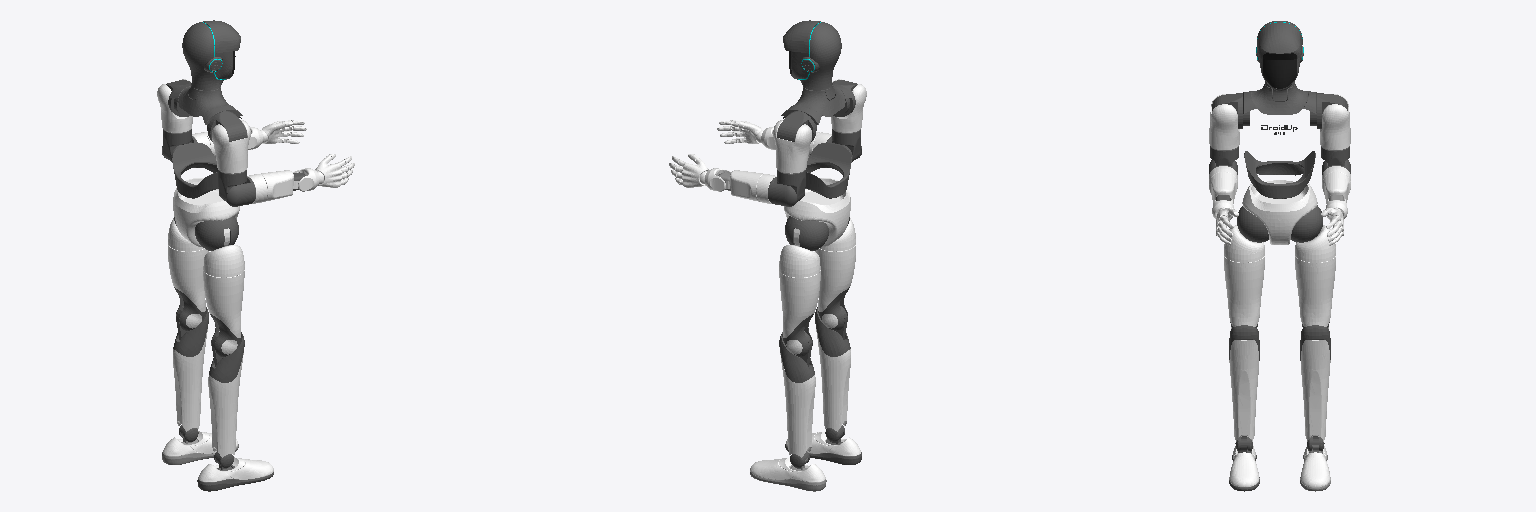
--- Facts derived from the render (not from the file) ---
3 views of the same robot in one strip: view 1: azimuth 30°, elevation 25°; view 2: azimuth 150°, elevation 25°; view 3: azimuth 270°, elevation 25° (orthographic).
Robot: x3 — 44 links, 43 joints (24 revolute, 19 fixed); root link pelvis_link; default pose: every joint at zero.
Visible links, largest first — view 1: torso_black_link, head_yaw_link, R_knee_pitch_link, L_knee_pitch_link, R_hip_yaw_link, pelvis_link, L_hip_yaw_link, R_shoulder_roll_link, R_wrist_pitch_link, R_hip_roll_link, R_ankle_roll_white_link, L_knee_pitch_black_link (+8 smaller); view 2: torso_black_link, head_yaw_link, L_knee_pitch_link, R_knee_pitch_link, L_hip_yaw_link, pelvis_link, R_hip_yaw_link, L_shoulder_roll_link, L_wrist_pitch_link, L_hip_roll_link, L_ankle_roll_white_link, R_knee_pitch_black_link (+8 smaller); view 3: torso_black_link, L_knee_pitch_link, R_knee_pitch_link, pelvis_link, R_hip_yaw_link, L_hip_yaw_link, head_yaw_link, L_shoulder_roll_link, R_shoulder_roll_link, face_link, L_hip_roll_link, R_hip_roll_link (+12 smaller).
Boxes of the visible links, left/top/right/bottom form: torso_black_link: left=169, top=83, right=242, bottom=198; head_yaw_link: left=182, top=20, right=240, bottom=90; R_knee_pitch_link: left=208, top=353, right=243, bottom=457; L_knee_pitch_link: left=173, top=329, right=207, bottom=431; R_hip_yaw_link: left=203, top=270, right=244, bottom=354; pelvis_link: left=173, top=178, right=239, bottom=246; L_hip_yaw_link: left=168, top=245, right=208, bottom=328; R_shoulder_roll_link: left=212, top=120, right=250, bottom=173; R_wrist_pitch_link: left=293, top=154, right=354, bottom=191; R_hip_roll_link: left=203, top=228, right=244, bottom=277; R_ankle_roll_white_link: left=198, top=457, right=273, bottom=481; L_knee_pitch_black_link: left=173, top=306, right=208, bottom=441; torso_black_link: left=781, top=83, right=854, bottom=198; head_yaw_link: left=783, top=20, right=841, bottom=90; L_knee_pitch_link: left=780, top=353, right=815, bottom=457; R_knee_pitch_link: left=816, top=329, right=850, bottom=431; L_hip_yaw_link: left=779, top=270, right=820, bottom=354; pelvis_link: left=784, top=178, right=850, bottom=246; R_hip_yaw_link: left=815, top=245, right=855, bottom=328; L_shoulder_roll_link: left=773, top=120, right=811, bottom=173; L_wrist_pitch_link: left=669, top=154, right=730, bottom=191; L_hip_roll_link: left=779, top=228, right=820, bottom=277; L_ankle_roll_white_link: left=750, top=457, right=825, bottom=481; R_knee_pitch_black_link: left=815, top=306, right=850, bottom=441; torso_black_link: left=1243, top=84, right=1316, bottom=198; L_knee_pitch_link: left=1301, top=340, right=1330, bottom=441; R_knee_pitch_link: left=1229, top=340, right=1258, bottom=441; pelvis_link: left=1242, top=180, right=1317, bottom=244; R_hip_yaw_link: left=1224, top=256, right=1264, bottom=328; L_hip_yaw_link: left=1295, top=256, right=1335, bottom=328; head_yaw_link: left=1256, top=21, right=1303, bottom=90; L_shoulder_roll_link: left=1320, top=94, right=1350, bottom=149; R_shoulder_roll_link: left=1209, top=94, right=1239, bottom=149; face_link: left=1263, top=53, right=1296, bottom=88; L_hip_roll_link: left=1295, top=225, right=1335, bottom=262; R_hip_roll_link: left=1224, top=225, right=1264, bottom=262.
Bounding box of the posed robot: 0.5902 × 0.4814 × 1.66 m (x, y, z).
41 mesh visuals loaded from 44 distinct referenced files (41 binary STL); not drawn: 3 (reference not matched to a file when rendering).

robot.urdf — x3:
<?xml version="1.0" encoding="utf-8"?>
<!-- This URDF was automatically created by SolidWorks to URDF Exporter! Originally created by Stephen Brawner ([email redacted]) 
     Commit Version: 1.6.0-4-g7f85cfe  Build Version: 1.6.7995.38578
     For more information, please see http://wiki.ros.org/sw_urdf_exporter -->
<robot name="x3">

  <mujoco>
    <compiler meshdir="./meshes" discardvisual="false" />
  </mujoco>

  <!-- <link name="world"></link>
  <joint name="pelvis_link" type="floating">
    <parent link="world" />
    <child link="pelvis_link" />
  </joint> -->

  <link name="pelvis_link">
    <inertial>
      <origin xyz="0 0.0002374 0.08138805" rpy="0 0 0" />
      <mass value="2.4" />
      <inertia ixx="0.01183793" ixy="-0.00000035" ixz="0.00000000" iyy="0.01469122" iyz="0.00000227" izz="0.01600167" />
    </inertial>
    <visual>
      <origin xyz="0 0 0" rpy="0 0 0" />
      <geometry>
        <mesh filename="meshes/pelvis_link.STL" />
      </geometry>
      <material name="">
        <color rgba="1 1 1 1" />
      </material>
    </visual>
    <!-- <collision>
      <origin xyz="0 0 0" rpy="0 0 0" />
      <geometry>
        <mesh filename="meshes/pelvis_link.STL" />
      </geometry>
    </collision> -->
  </link>
  <link name="L_hip_pitch_link">
    <inertial>
      <origin xyz="0 -0.00129733 0.00058752" rpy="0 0 0" />
      <mass value="0.35" />
      <inertia ixx="0.00077282" ixy="0.00000000" ixz="0.00000000" iyy="0.00090761" iyz="0.00000636" izz="0.00091467" />
    </inertial>
    <visual>
      <origin xyz="0 0 0" rpy="0 0 0" />
      <geometry>
        <mesh filename="meshes/L_hip_pitch_link.STL" />
      </geometry>
      <material name="">
        <color rgba="0.41961 0.41961 0.41961 1" />
      </material>
    </visual>
    <collision>
      <origin xyz="0 0 0" rpy="0 0 0" />
      <geometry>
        <mesh filename="meshes/L_hip_pitch_link.STL" />
      </geometry>
    </collision>
  </link>
  <joint name="L_hip_pitch" type="revolute">
    <origin xyz="0 0.071 0.0419" rpy="0 0 0" />
    <parent link="pelvis_link" />
    <child link="L_hip_pitch_link" />
    <axis xyz="0 -1 0" />
    <limit lower="-0.8727" upper="1.7453" effort="72" velocity="117.5" />
  </joint>
  <link name="L_hip_roll_link">
    <inertial>
      <origin xyz="0 0.04078379 -0.09187673" rpy="0 0 0" />
      <mass value="3.2" />
      <inertia ixx="0.01851882" ixy="0.00000000" ixz="-0.00000001" iyy="0.01634553" iyz="-0.00289271" izz="0.00663237" />
    </inertial>
    <visual>
      <origin xyz="0 0 0" rpy="0 0 0" />
      <geometry>
        <mesh filename="meshes/L_hip_roll_link.STL" />
      </geometry>
      <material name="">
        <color rgba="1 1 1 1" />
      </material>
    </visual>
    <collision>
      <origin xyz="0 0 0" rpy="0 0 0" />
      <geometry>
        <mesh filename="meshes/L_hip_roll_link.STL" />
      </geometry>
    </collision>
  </link>
  <joint name="L_hip_roll" type="revolute">
    <origin xyz="0 0 0" rpy="0 0 0" />
    <parent link="L_hip_pitch_link" />
    <child link="L_hip_roll_link" />
    <axis xyz="1 0 0" />
    <limit lower="-0.1309" upper="1.11" effort="36" velocity="235" />
  </joint>
  <link name="L_hip_yaw_link">
    <inertial>
      <origin xyz="0.00421444 0.00000785 -0.19916050" rpy="0 0 0" />
      <mass value="1.7" />
      <inertia ixx="0.01070579" ixy="0.00000152" ixz="-0.00075783" iyy="0.01061119" iyz="0.00000095" izz="0.00385510" />
    </inertial>
    <visual>
      <origin xyz="0 0 0" rpy="0 0 0" />
      <geometry>
        <mesh filename="meshes/L_hip_yaw_link.STL" />
      </geometry>
      <material name="">
        <color rgba="1 1 1 1" />
      </material>
    </visual>
    <collision>
      <origin xyz="0 0 0" rpy="0 0 0" />
      <geometry>
        <mesh filename="meshes/L_hip_yaw_link.STL" />
      </geometry>
    </collision>
  </link>
  <joint name="L_hip_yaw" type="revolute">
    <origin xyz="0 0.049 -0.043" rpy="0 0 0" />
    <parent link="L_hip_roll_link" />
    <child link="L_hip_yaw_link" />
    <axis xyz="0 0 1" />
    <limit lower="-0.7854" upper="0.7854" effort="24" velocity="37" />
  </joint>
  <link name="L_hip_yaw_black_link">
    <inertial>
      <origin xyz="0.010882 8.8917E-06 -0.34221" rpy="0 0 0" />
      <mass value="0.01" />
      <inertia ixx="0.00049307" ixy="1.8407E-08" ixz="0.00012312" iyy="0.00053872" iyz="-8.6888E-08" izz="0.00032966" />
    </inertial>
    <visual>
      <origin xyz="0 0 0" rpy="0 0 0" />
      <geometry>
        <mesh filename="meshes/L_hip_yaw_black_link.STL" />
      </geometry>
      <material name="">
        <color rgba="0.41176 0.41176 0.41176 1" />
      </material>
    </visual>
    <!-- <collision>
      <origin xyz="0 0 0" rpy="0 0 0" />
      <geometry>
        <mesh filename="meshes/L_hip_yaw_black_link.STL" />
      </geometry>
    </collision> -->
  </link>
  <joint name="L_hip_yaw_black" type="fixed">
    <origin xyz="0 0 0" rpy="0 0 0" />
    <parent link="L_hip_yaw_link" />
    <child link="L_hip_yaw_black_link" />
    <axis xyz="0 0 0" />
  </joint>
  <link name="L_knee_pitch_black_link">
    <inertial>
      <origin xyz="0.0036108 -2.1226E-06 -0.1102" rpy="0 0 0" />
      <mass value="0.01" />
      <inertia ixx="0.0145" ixy="1.7116E-08" ixz="-0.00044634" iyy="0.014482" iyz="8.0516E-08" izz="0.00098127" />
    </inertial>
    <visual>
      <origin xyz="0 0 0" rpy="0 0 0" />
      <geometry>
        <mesh filename="meshes/L_knee_pitch_black_link.STL" />
      </geometry>
      <material name="">
        <color rgba="0.41176 0.41176 0.41176 1" />
      </material>
    </visual>
    <!-- <collision>
      <origin xyz="0 0 0" rpy="0 0 0" />
      <geometry>
        <mesh filename="meshes/L_knee_pitch_black_link.STL" />
      </geometry>
    </collision> -->
  </link>
  <!-- <joint name="L_knee_pitch_black" type="fixed">
    <origin xyz="0 0 -0.357" rpy="0 0 0" />
    <parent link="L_hip_yaw_black_link" />
    <child link="L_knee_pitch_black_link" />
    <axis xyz="0 0 0" />
  </joint> -->
  <joint name="L_knee_pitch_black" type="fixed">
    <origin xyz="0 0 0" rpy="0 0 0" />
    <parent link="L_knee_pitch_link" />
    <child link="L_knee_pitch_black_link" />
    <axis xyz="0 0 0" />
  </joint>
  <link name="L_knee_pitch_link">
    <inertial>
      <origin xyz="0.00459772 0 -0.22342401" rpy="0 0 0" />
      <mass value="1.2" />
      <inertia ixx="0.01015001" ixy="-0.00000002" ixz="0.00082886" iyy="0.01039687" iyz="0.00000003" izz="0.00150910" />
    </inertial>
    <visual>
      <origin xyz="0 0 0" rpy="0 0 0" />
      <geometry>
        <mesh filename="meshes/L_knee_pitch_link.STL" />
      </geometry>
      <material name="">
        <color rgba="1 1 1 1" />
      </material>
    </visual>
    <collision>
      <origin xyz="0 0 0" rpy="0 0 0" />
      <geometry>
        <mesh filename="meshes/L_knee_pitch_link.STL" />
      </geometry>
    </collision>
  </link>
  <!-- <joint name="L_knee_pitch" type="revolute">
    <origin xyz="0 0 0" rpy="0 0 0" />
    <parent link="L_knee_pitch_black_link" />
    <child link="L_knee_pitch_link" />
    <axis xyz="0 -1 0" />
    <limit lower="-2.3562" upper="0" effort="93.6" velocity="90" />
  </joint> -->
  <joint name="L_knee_pitch" type="revolute">
    <origin xyz="0 0 -0.357" rpy="0 0 0" />
    <parent link="L_hip_yaw_black_link" />
    <child link="L_knee_pitch_link" />
    <axis xyz="0 -1 0" />
    <limit lower="-2.3562" upper="0" effort="93.6" velocity="90" />
  </joint>
  <link name="L_ankle_pitch_link">
    <inertial>
      <origin xyz="0 0 -0.03720405" rpy="0 0 0" />
      <mass value="0.2" />
      <inertia ixx="0.00020542" ixy="0.0000000" ixz="0.00000000" iyy="0.00022529" iyz="0.00000000" izz="0.00007465" />
    </inertial>
    <visual>
      <origin xyz="0 0 0" rpy="0 0 0" />
      <geometry>
        <mesh filename="meshes/L_ankle_pitch_link.STL" />
      </geometry>
      <material name="">
        <color rgba="0.62745 0.62745 0.62745 1" />
      </material>
    </visual>
    <collision>
      <origin xyz="0 0 0" rpy="0 0 0" />
      <geometry>
        <mesh filename="meshes/L_ankle_pitch_link.STL" />
      </geometry>
    </collision>
  </link>
  <joint name="L_ankle_pitch" type="revolute">
    <origin xyz="0 0 -0.43" rpy="0 0 0" />
    <parent link="L_knee_pitch_link" />
    <child link="L_ankle_pitch_link" />
    <axis xyz="0 -1 0" />
    <limit lower="-1.309" upper="1.309" effort="64.8" velocity="130" />
  </joint>
  <link name="L_ankle_roll_link">
    <inertial>
      <origin xyz="0.04505385 0.00001354 -0.02342946" rpy="0 0 0" />
      <mass value="0.6" />
      <inertia ixx="0.00041777" ixy="-0.00000006" ixz="-0.00009663" iyy="0.00376485" iyz="0.00000000" izz="0.00406581" />
    </inertial>
    <visual>
      <origin xyz="0 0 0" rpy="0 0 0" />
      <geometry>
        <mesh filename="meshes/L_ankle_roll_link.STL" />
      </geometry>
      <material name="">
        <color rgba="0.62745 0.62745 0.62745 1" />
      </material>
    </visual>
    <!-- <collision>
      <origin xyz="0 0 0" rpy="0 0 0" />
      <geometry>
        <mesh filename="meshes/L_ankle_roll_link.STL" />
      </geometry>
    </collision> -->
<!--    <collision>-->
<!--      <origin xyz="-0.066 0.03 -0.034" rpy="0 0 0"/>-->
<!--      <geometry>-->
<!--        <sphere radius="0.005"/>-->
<!--      </geometry>-->
<!--    </collision>-->
<!--    <collision>-->
<!--      <origin xyz="-0.066 -0.03 -0.034" rpy="0 0 0"/>-->
<!--      <geometry>-->
<!--        <sphere radius="0.005"/>-->
<!--      </geometry>-->
<!--    </collision>-->
<!--    <collision>-->
<!--      <origin xyz="0.16 0.035 -0.034" rpy="0 0 0"/>-->
<!--      <geometry>-->
<!--        <sphere radius="0.005"/>-->
<!--      </geometry>-->
<!--    </collision>-->
<!--    <collision>-->
<!--      <origin xyz="0.16 -0.035 -0.034" rpy="0 0 0"/>-->
<!--      <geometry>-->
<!--        <sphere radius="0.005"/>-->
<!--      </geometry>-->
<!--    </collision>-->
<!--    <collision>-->
<!--      <origin xyz="0.042 0.0 -0.0335" rpy="0 0 0"/>-->
<!--      <geometry>-->
<!--        <box size="0.2 0.05 0.01"/>-->
<!--      </geometry>-->
<!--    </collision>-->
    <collision> <origin xyz="0.04 0.0 0.00" rpy="0 0 0"/> <geometry> <box size="0.20 0.06 0.10"/> </geometry> </collision>
    <collision> <origin xyz="-0.09 -0.0   -0.0340" rpy="0 0 0"/> <geometry> <sphere radius="0.005"/> </geometry> </collision>
    <collision> <origin xyz=" 0.18 -0.0   -0.0340" rpy="0 0 0"/> <geometry> <sphere radius="0.005"/> </geometry> </collision>
    <collision> <origin xyz=" 0.12 -0.046 -0.0340" rpy="0 0 0"/> <geometry> <sphere radius="0.005"/> </geometry> </collision>
    <collision> <origin xyz=" 0.12  0.046 -0.0340" rpy="0 0 0"/> <geometry> <sphere radius="0.005"/> </geometry> </collision>
    <collision> <origin xyz="-0.03  0.033 -0.0340" rpy="0 0 0"/> <geometry> <sphere radius="0.005"/> </geometry> </collision>
    <collision> <origin xyz="-0.03 -0.033 -0.0340" rpy="0 0 0"/> <geometry> <sphere radius="0.005"/> </geometry> </collision>
  </link>
  <joint name="L_ankle_roll" type="revolute">
    <origin xyz="0 0 -0.058" rpy="0 0 0" />
    <parent link="L_ankle_pitch_link" />
    <child link="L_ankle_roll_link" />
    <axis xyz="1 0 0" />
    <limit lower="-0.5236" upper="0.5236" effort="7.7" velocity="20" />
  </joint>
  <link name="L_ankle_roll_white_link">
    <inertial>
      <origin xyz="0.052694 -9.4965E-08 0.0076216" rpy="0 0 0" />
      <mass value="0.01" />
      <inertia ixx="0.00038883" ixy="-2.5213E-09" ixz="0.00022024" iyy="0.0030036" iyz="1.5905E-09" izz="0.0031991" />
    </inertial>
    <visual>
      <origin xyz="0 0 0" rpy="0 0 0" />
      <geometry>
        <mesh filename="meshes/L_ankle_roll_white_link.STL" />
      </geometry>
      <material name="">
        <color rgba="1 1 1 1" />
      </material>
    </visual>
    <!-- <collision>
      <origin xyz="0 0 0" rpy="0 0 0" />
      <geometry>
        <mesh filename="meshes/L_ankle_roll_white_link.STL" />
      </geometry>
    </collision> -->
  </link>
  <joint name="L_ankle_roll_white" type="fixed">
    <origin xyz="0 0 0" rpy="0 0 0" />
    <parent link="L_ankle_roll_link" />
    <child link="L_ankle_roll_white_link" />
    <axis xyz="0 0 0" />
  </joint>
  <link name="R_hip_pitch_link">
    <inertial>
      <origin xyz="0 -0.00129733 0.00058752" rpy="0 0 0" />
      <mass value="0.35" />
      <inertia ixx="0.00077282" ixy="-0.00000000" ixz="0.00000000" iyy="0.00090761" iyz="-0.00000636" izz="0.00091467" />
    </inertial>
    <visual>
      <origin xyz="0 0 0" rpy="0 0 0" />
      <geometry>
        <mesh filename="meshes/R_hip_pitch_link.STL" />
      </geometry>
      <material name="">
        <color rgba="0.41961 0.41961 0.41961 1" />
      </material>
    </visual>
    <collision>
      <origin xyz="0 0 0" rpy="0 0 0" />
      <geometry>
        <mesh filename="meshes/R_hip_pitch_link.STL" />
      </geometry>
    </collision>
  </link>
  <joint name="R_hip_pitch" type="revolute">
    <origin xyz="0 -0.071 0.0419" rpy="0 0 0" />
    <parent link="pelvis_link" />
    <child link="R_hip_pitch_link" />
    <axis xyz="0 -1 0" />
    <limit lower="-0.8727" upper="1.7453" effort="72" velocity="117.5" />
  </joint>
  <link name="R_hip_roll_link">
    <inertial>
      <origin xyz="0 -0.04078345 -0.09187642" rpy="0 0 0" />
      <mass value="3.2" />
      <inertia ixx="0.01851882" ixy="-0.00000000" ixz="0.00000001" iyy="0.01634553" iyz="0.00289271" izz="0.00663237" />
    </inertial>
    <visual>
      <origin xyz="0 0 0" rpy="0 0 0" />
      <geometry>
        <mesh filename="meshes/R_hip_roll_link.STL" />
      </geometry>
      <material name="">
        <color rgba="1 1 1 1" />
      </material>
    </visual>
    <collision>
      <origin xyz="0 0 0" rpy="0 0 0" />
      <geometry>
        <mesh filename="meshes/R_hip_roll_link.STL" />
      </geometry>
    </collision>
  </link>
  <joint name="R_hip_roll" type="revolute">
    <origin xyz="0 0 0" rpy="0 0 0" />
    <parent link="R_hip_pitch_link" />
    <child link="R_hip_roll_link" />
    <axis xyz="-1 0 0" />
    <limit lower="-0.1309" upper="1.11" effort="36" velocity="235" />
  </joint>
  <link name="R_hip_yaw_link">
    <inertial>
      <origin xyz="0.00421444 0.00000785 -0.19916050" rpy="0 0 0" />
      <mass value="1.7" />
      <inertia ixx="0.01070579" ixy="-0.00000152" ixz="-0.00075783" iyy="0.01061119" iyz="-0.00000095" izz="0.00385510" />
    </inertial>
    <visual>
      <origin xyz="0 0 0" rpy="0 0 0" />
      <geometry>
        <mesh filename="meshes/R_hip_yaw_link.STL" />
      </geometry>
      <material name="">
        <color rgba="1 1 1 1" />
      </material>
    </visual>
    <collision>
      <origin xyz="0 0 0" rpy="0 0 0" />
      <geometry>
        <mesh filename="meshes/R_hip_yaw_link.STL" />
      </geometry>
    </collision>
  </link>
  <joint name="R_hip_yaw" type="revolute">
    <origin xyz="0 -0.049 -0.043" rpy="0 0 0" />
    <parent link="R_hip_roll_link" />
    <child link="R_hip_yaw_link" />
    <axis xyz="0 0 -1" />
    <limit lower="-0.7854" upper="0.7854" effort="24" velocity="37" />
  </joint>
  <link name="R_hip_yaw_black_link">
    <inertial>
      <origin xyz="0.010883 4.3825E-07 -0.34223" rpy="0 0 0" />
      <mass value="0.05" />
      <inertia ixx="0.00049284" ixy="-1.0446E-08" ixz="0.0001231" iyy="0.00053857" iyz="-2.0743E-08" izz="0.0003296" />
    </inertial>
    <visual>
      <origin xyz="0 0 0" rpy="0 0 0" />
      <geometry>
        <mesh filename="meshes/R_hip_yaw_black_link.STL" />
      </geometry>
      <material name="">
        <color rgba="0.41176 0.41176 0.41176 1" />
      </material>
    </visual>
    <!-- <collision>
      <origin xyz="0 0 0" rpy="0 0 0" />
      <geometry>
        <mesh filename="meshes/R_hip_yaw_black_link.STL" />
      </geometry>
    </collision> -->
  </link>
  <joint name="R_hip_yaw_black" type="fixed">
    <origin xyz="0 0 0" rpy="0 0 0" />
    <parent link="R_hip_yaw_link" />
    <child link="R_hip_yaw_black_link" />
    <axis xyz="0 0 0" />
  </joint>
  <link name="R_knee_pitch_black_link">
    <inertial>
      <origin xyz="0.0036099 -1.2526E-06 -0.1102" rpy="0 0 0" />
      <mass value="0.05" />
      <inertia ixx="0.014499" ixy="-5.0793E-08" ixz="-0.00044615" iyy="0.014481" iyz="-1.122E-07" izz="0.00098043" />
    </inertial>
    <visual>
      <origin xyz="0 0 0" rpy="0 0 0" />
      <geometry>
        <mesh filename="meshes/R_knee_pitch_black_link.STL" />
      </geometry>
      <material name="">
        <color rgba="0.41176 0.41176 0.41176 1" />
      </material>
    </visual>
    <!-- <collision>
      <origin xyz="0 0 0" rpy="0 0 0" />
      <geometry>
        <mesh filename="meshes/R_knee_pitch_black_link.STL" />
      </geometry>
    </collision> -->
  </link>
  <!-- <joint name="R_knee_pitch_black" type="fixed">
    <origin xyz="0 0 -0.357" rpy="0 0 0" />
    <parent link="R_hip_yaw_black_link" />
    <child link="R_knee_pitch_black_link" />
    <axis xyz="0 0 0" />
  </joint> -->
  <joint name="R_knee_pitch_black" type="fixed">
    <origin xyz="0 0 0" rpy="0 0 0" />
    <parent link="R_knee_pitch_link" />
    <child link="R_knee_pitch_black_link" />
    <axis xyz="0 0 0" />
  </joint>
  <link name="R_knee_pitch_link">
    <inertial>
      <origin xyz="0.00459772 0 -0.22342401" rpy="0 0 0" />
      <mass value="1.2" />
      <inertia ixx="0.01015001" ixy="0.00000002" ixz="0.00082886" iyy="0.01039687" iyz="0.00000003" izz="0.00150910" />
    </inertial>
    <visual>
      <origin xyz="0 0 0" rpy="0 0 0" />
      <geometry>
        <mesh filename="meshes/R_knee_pitch_link.STL" />
      </geometry>
      <material name="">
        <color rgba="1 1 1 1" />
      </material>
    </visual>
    <collision>
      <origin xyz="0 0 0" rpy="0 0 0" />
      <geometry>
        <mesh filename="meshes/R_knee_pitch_link.STL" />
      </geometry>
    </collision>
  </link>
  <!-- <joint name="R_knee_pitch" type="revolute">
    <origin xyz="0 0 0" rpy="0 0 0" />
    <parent link="R_knee_pitch_black_link" />
    <child link="R_knee_pitch_link" />
    <axis xyz="0 -1 0" />
    <limit lower="-2.3562" upper="0" effort="93.6" velocity="90" />
  </joint> -->
  <joint name="R_knee_pitch" type="revolute">
    <origin xyz="0 0 -0.357" rpy="0 0 0" />
    <parent link="R_hip_yaw_black_link" />
    <child link="R_knee_pitch_link" />
    <axis xyz="0 -1 0" />
    <limit lower="-2.3562" upper="0" effort="93.6" velocity="90" />
  </joint>
  <link name="R_ankle_pitch_Link">
    <inertial>
      <origin xyz="0 0 -0.03720405" rpy="0 0 0" />
      <mass value="0.2" />
      <inertia ixx="0.00020542" ixy="0.0000000" ixz="0.00000000" iyy="0.00022529" iyz="0.00000000" izz="0.00007465" />
    </inertial>
    <visual>
      <origin xyz="0 0 0" rpy="0 0 0" />
      <geometry>
        <mesh filename="meshes/R_ankle_pitch_Link.STL" />
      </geometry>
      <material name="">
        <color rgba="0.41961 0.41961 0.41961 1" />
      </material>
    </visual>
    <collision>
      <origin xyz="0 0 0" rpy="0 0 0" />
      <geometry>
        <mesh filename="meshes/R_ankle_pitch_Link.STL" />
      </geometry>
    </collision>
  </link>
  <joint name="R_ankle_pitch" type="revolute">
    <origin xyz="0 0 -0.43" rpy="0 0 0" />
    <parent link="R_knee_pitch_link" />
    <child link="R_ankle_pitch_Link" />
    <axis xyz="0 -1 0" />
    <limit lower="-1.309" upper="1.309" effort="64.8" velocity="130" />
  </joint>
  <link name="R_ankle_roll_link">
    <inertial>
      <origin xyz="0.04505385 0.00001354 -0.02342946" rpy="0 0 0" />
      <mass value="0.6" />
      <inertia ixx="0.00041777" ixy="0.00000006" ixz="-0.00009663" iyy="0.00376485" iyz="-0.00000000" izz="0.00406581" />
    </inertial>
    <visual>
      <origin xyz="0 0 0" rpy="0 0 0" />
      <geometry>
        <mesh filename="meshes/R_ankle_roll_link.STL" />
      </geometry>
      <material name="">
        <color rgba="0.41961 0.41961 0.41961 1" />
      </material>
    </visual>
    <!-- <collision>
      <origin xyz="0 0 0" rpy="0 0 0" />
      <geometry>
        <mesh filename="meshes/R_ankle_roll_link.STL" />
      </geometry>
    </collision> -->
<!--    <collision>-->
<!--      <origin xyz="-0.066 0.03 -0.034" rpy="0 0 0"/>-->
<!--      <geometry>-->
<!--        <sphere radius="0.005"/>-->
<!--      </geometry>-->
<!--    </collision>-->
<!--    <collision>-->
<!--      <origin xyz="-0.066 -0.03 -0.034" rpy="0 0 0"/>-->
<!--      <geometry>-->
<!--        <sphere radius="0.005"/>-->
<!--      </geometry>-->
<!--    </collision>-->
<!--    <collision>-->
<!--      <origin xyz="0.16 0.035 -0.034" rpy="0 0 0"/>-->
<!--      <geometry>-->
<!--        <sphere radius="0.005"/>-->
<!--      </geometry>-->
<!--    </collision>-->
<!--    <collision>-->
<!--      <origin xyz="0.16 -0.035 -0.034" rpy="0 0 0"/>-->
<!--      <geometry>-->
<!--        <sphere radius="0.005"/>-->
<!--      </geometry>-->
<!--    </collision>-->
<!--    <collision>-->
<!--      <origin xyz="0.042 0.0 -0.0335" rpy="0 0 0"/>-->
<!--      <geometry>-->
<!--        <box size="0.2 0.05 0.01"/>-->
<!--      </geometry>-->
<!--    </collision>-->
    <collision> <origin xyz="0.04 0.0 0.00" rpy="0 0 0"/> <geometry> <box size="0.20 0.06 0.1"/> </geometry> </collision>
    <collision> <origin xyz="-0.09 -0.0   -0.0340" rpy="0 0 0"/> <geometry> <sphere radius="0.005"/> </geometry> </collision>
    <collision> <origin xyz=" 0.18 -0.0   -0.0340" rpy="0 0 0"/> <geometry> <sphere radius="0.005"/> </geometry> </collision>
    <collision> <origin xyz=" 0.12 -0.046 -0.0340" rpy="0 0 0"/> <geometry> <sphere radius="0.005"/> </geometry> </collision>
    <collision> <origin xyz=" 0.12  0.046 -0.0340" rpy="0 0 0"/> <geometry> <sphere radius="0.005"/> </geometry> </collision>
    <collision> <origin xyz="-0.03  0.033 -0.0340" rpy="0 0 0"/> <geometry> <sphere radius="0.005"/> </geometry> </collision>
    <collision> <origin xyz="-0.03 -0.033 -0.0340" rpy="0 0 0"/> <geometry> <sphere radius="0.005"/> </geometry> </collision>
  </link>
  <joint name="R_ankle_roll" type="revolute">
    <origin xyz="0 0 -0.058" rpy="0 0 0" />
    <parent link="R_ankle_pitch_Link" />
    <child link="R_ankle_roll_link" />
    <axis xyz="-1 0 0" />
    <limit lower="-0.5236" upper="0.5236" effort="7.7" velocity="20" />
  </joint>
  <link name="R_ankle_roll_white_link">
    <inertial>
      <origin xyz="0.052694 1.2918E-07 0.0076217" rpy="0 0 0" />
      <mass value="0.05" />
      <inertia ixx="0.00038883" ixy="1.1816E-09" ixz="0.00022024" iyy="0.0030036" iyz="9.5402E-10" izz="0.0031991" />
    </inertial>
    <visual>
      <origin xyz="0 0 0" rpy="0 0 0" />
      <geometry>
        <mesh filename="meshes/R_ankle_roll_white_link.STL" />
      </geometry>
      <material name="">
        <color rgba="1 1 1 1" />
      </material>
    </visual>
    <!-- <collision>
      <origin xyz="0 0 0" rpy="0 0 0" />
      <geometry>
        <mesh filename="meshes/R_ankle_roll_white_link.STL" />
      </geometry>
    </collision> -->
  </link>
  <joint name="R_ankle_roll_white" type="fixed">
    <origin xyz="0 0 0" rpy="0 0 0" />
    <parent link="R_ankle_roll_link" />
    <child link="R_ankle_roll_white_link" />
    <axis xyz="0 0 0" />
  </joint>
  <link name="waist_yaw_link">
    <inertial>
      <origin xyz="0 0 0.00521207" rpy="0 0 0" />
      <mass value="0.3" />
      <inertia ixx="0.00106795" ixy="0.0000000" ixz="0.00000000" iyy="0.00113466" iyz="-0.00000004" izz="0.00146289" />
    </inertial>
    <visual>
      <origin xyz="0 0 0" rpy="0 0 0" />
      <geometry>
        <mesh filename="meshes/waist_yaw_link.STL" />
      </geometry>
      <material name="">
        <color rgba="0.41961 0.41961 0.41961 1" />
      </material>
    </visual>
    <!-- <collision>
      <origin xyz="0 0 0" rpy="0 0 0" />
      <geometry>
        <mesh filename="meshes/waist_yaw_link.STL" />
      </geometry>
    </collision> -->
  </link>
  <joint name="waist_yaw" type="revolute">
    <origin xyz="0 0 0.1716" rpy="0 0 0" />
    <parent link="pelvis_link" />
    <child link="waist_yaw_link" />
    <axis xyz="0 0 1" />
    <limit lower="-0.7854" upper="0.7854" effort="72" velocity="117.5" />
  </joint>
  <link name="waist_roll_link">
    <inertial>
      <origin xyz="0 0 0" rpy="0 0 0" />
      <mass value="2.1" />
      <inertia ixx="0.00168" ixy="0.00000000" ixz="0.00000000" iyy="0.001960000" iyz="0" izz="0.001960000" />
    </inertial>
    <visual>
      <origin xyz="0 0 0" rpy="0 0 0" />
      <geometry>
        <mesh filename="meshes/waist_roll_link.STL" />
      </geometry>
      <material name="">
        <color rgba="1 1 1 1" />
      </material>
    </visual>
    <!-- <collision>
      <origin xyz="0 0 0" rpy="0 0 0" />
      <geometry>
        <mesh filename="meshes/waist_roll_link.STL" />
      </geometry>
    </collision> -->
  </link>
  <joint name="waist_roll" type="revolute">
    <origin xyz="0 0 0" rpy="0 0 0" />
    <parent link="waist_yaw_link" />
    <child link="waist_roll_link" />
    <axis xyz="1 0 0" />
    <limit lower="-0.4363" upper="0.4363" effort="36" velocity="235" />
  </joint>
  <link name="torso_link">
    <inertial>
      <origin xyz="0.00176915 0 0.35267222" rpy="0 0 0" />
      <mass value="10" />
      <inertia ixx="0.08821683" ixy="0.00000007" ixz="-0.00086269" iyy="0.08305526" iyz="0.00000008" izz="0.08533186" />
    </inertial>
    <visual>
      <origin xyz="0 0 0" rpy="0 0 0" />
      <geometry>
        <mesh filename="meshes/torso_link.STL" />
      </geometry>
      <material name="">
        <color rgba="1 1 1 1" />
      </material>
    </visual>
    <collision>
      <origin xyz="0 0 0" rpy="0 0 0" />
      <geometry>
        <mesh filename="meshes/torso_link.STL" />
      </geometry>
    </collision>
  </link>
  <joint name="torso" type="fixed">
    <origin xyz="0 0 -0.1716" rpy="0 0 0" />
    <parent link="waist_roll_link" />
    <child link="torso_link" />
    <axis xyz="0 0 0" />
  </joint>
  <link name="head_pitch_link">
    <inertial>
      <origin xyz="-0.0019436 -4.9792E-08 0.010022" rpy="0 0 0" />
      <mass value="1.1" />
      <inertia ixx="0.00025617" ixy="-1.092E-09" ixz="1.1163E-06" iyy="0.00040167" iyz="-3.0801E-10" izz="0.00032194" />
    </inertial>
    <visual>
      <origin xyz="0 0 0" rpy="0 0 0" />
      <geometry>
        <mesh filename="meshes/head_pitch_link.STL" />
      </geometry>
      <material name="">
        <color rgba="0.41961 0.41961 0.41961 1" />
      </material>
    </visual>
    <!-- <collision>
      <origin xyz="0 0 0" rpy="0 0 0" />
      <geometry>
        <mesh filename="meshes/head_pitch_link.STL" />
      </geometry>
    </collision> -->
  </link>
  <joint name="head_pitch" type="fixed">
    <origin xyz="0 0 0.5176" rpy="0 0 0" />
    <parent link="torso_link" />
    <child link="head_pitch_link" />
    <axis xyz="0 -1 0" />
    <limit lower="-0.2618" upper="0.5236" effort="6.8" velocity="30" />
  </joint>
  <link name="head_yaw_link">
    <inertial>
      <origin xyz="0.0078393 -3.5328E-05 0.10144" rpy="0 0 0" />
      <mass value="2" />
      <inertia ixx="0.01342" ixy="3.8543E-06" ixz="-0.00032559" iyy="0.014149" iyz="5.9802E-06" izz="0.0094371" />
    </inertial>
    <visual>
      <origin xyz="0 0 0" rpy="0 0 0" />
      <geometry>
        <mesh filename="meshes/head_yaw_link.STL" />
      </geometry>
      <material name="">
        <color rgba="0.41961 0.41961 0.41961 1" />
      </material>
    </visual>
    <!-- <collision>
      <origin xyz="0 0 0" rpy="0 0 0" />
      <geometry>
        <mesh filename="meshes/head_yaw_link.STL" />
      </geometry>
    </collision> -->
  </link>
  <joint name="head_yaw" type="fixed">
    <origin xyz="0 0 0.06128" rpy="0 0 0" />
    <parent link="head_pitch_link" />
    <child link="head_yaw_link" />
    <axis xyz="0 0 1" />
    <limit lower="-1.047" upper="1.047" effort="6.8" velocity="30" />
  </joint>
  <link name="head_lamp_link">
    <inertial>
      <origin xyz="0.012591 -0.00014116 0.08922" rpy="0 0 0" />
      <mass value="0.01" />
      <inertia ixx="3.7811E-05" ixy="4.0394E-09" ixz="2.6482E-06" iyy="1.4668E-05" iyz="-3.798E-09" izz="3.587E-05" />
    </inertial>
    <visual>
      <origin xyz="0 0 0" rpy="0 0 0" />
      <geometry>
        <mesh filename="meshes/head_lamp_link.STL" />
      </geometry>
      <material name="">
        <color rgba="0 1 1 1" />
      </material>
    </visual>
    <!-- <collision>
      <origin xyz="0 0 0" rpy="0 0 0" />
      <geometry>
        <mesh filename="meshes/head_lamp_link.STL" />
      </geometry>
    </collision> -->
  </link>
  <joint name="head_lamp" type="fixed">
    <origin xyz="0 0 0" rpy="0 0 0" />
    <parent link="head_yaw_link" />
    <child link="head_lamp_link" />
    <axis xyz="0 0 0" />
  </joint>
  <link name="face_link">
    <inertial>
      <origin xyz="0.079201 -0.00011607 0.075742" rpy="0 0 0" />
      <mass value="0.01" />
      <inertia ixx="0.0012449" ixy="-7.0495E-09" ixz="-4.2681E-05" iyy="0.00089036" iyz="-1.5465E-08" izz="0.00052426" />
    </inertial>
    <visual>
      <origin xyz="0 0 0" rpy="0 0 0" />
      <geometry>
        <mesh filename="meshes/face_link.STL" />
      </geometry>
      <material name="">
        <color rgba="0.2 0.2 0.2 1" />
      </material>
    </visual>
    <!-- <collision>
      <origin xyz="0 0 0" rpy="0 0 0" />
      <geometry>
        <mesh filename="meshes/face_link.STL" />
      </geometry>
    </collision> -->
  </link>
  <joint name="face" type="fixed">
    <origin xyz="0 0 0" rpy="0 0 0" />
    <parent link="head_yaw_link" />
    <child link="face_link" />
    <axis xyz="0 0 0" />
  </joint>
  <link name="L_shoulder_pitch_link">
    <inertial>
      <origin xyz="-0.00083973 0.050353 0.0019496" rpy="0 0 0" />
      <mass value="1.7" />
      <inertia ixx="0.0014141" ixy="1.3493E-05" ixz="2.5809E-06" iyy="0.00095389" iyz="-7.8113E-06" izz="0.0012992" />
    </inertial>
    <visual>
      <origin xyz="0 0 0" rpy="0 0 0" />
      <geometry>
        <mesh filename="meshes/L_shoulder_pitch_link.STL" />
      </geometry>
      <material name="">
        <color rgba="0.41176 0.41176 0.41176 1" />
      </material>
    </visual>
    <!-- <collision>
      <origin xyz="0 0 0" rpy="0 0 0" />
      <geometry>
        <mesh filename="meshes/L_shoulder_pitch_link.STL" />
      </geometry>
    </collision> -->
  </link>
  <joint name="L_shoulder_pitch" type="revolute">
    <origin xyz="-0.006 0.1025 0.4456" rpy="0 0 0" />
    <parent link="torso_link" />
    <child link="L_shoulder_pitch_link" />
    <axis xyz="0 -1 0" />
    <limit lower="-1.5708" upper="3.1416" effort="38" velocity="30" />
  </joint>
  <link name="L_shoulder_roll_link">
    <inertial>
      <origin xyz="-0.0022667 0.00026948 -0.050968" rpy="0 0 0" />
      <mass value="1.2" />
      <inertia ixx="0.0025126" ixy="3.3211E-06" ixz="6.6092E-05" iyy="0.0031084" iyz="-2.0912E-05" izz="0.0018992" />
    </inertial>
    <visual>
      <origin xyz="0 0 0" rpy="0 0 0" />
      <geometry>
        <mesh filename="meshes/L_shoulder_roll_link.STL" />
      </geometry>
      <material name="">
        <color rgba="1 1 1 1" />
      </material>
    </visual>
    <!-- <collision>
      <origin xyz="0 0 0" rpy="0 0 0" />
      <geometry>
        <mesh filename="meshes/L_shoulder_roll_link.STL" />
      </geometry>
    </collision> -->
  </link>
  <joint name="L_shoulder_roll" type="revolute">
    <origin xyz="0 0.0845 0" rpy="0 0 0" />
    <parent link="L_shoulder_pitch_link" />
    <child link="L_shoulder_roll_link" />
    <axis xyz="1 0 0" />
    <limit lower="-0.1745" upper="1.5708" effort="38" velocity="30" />
  </joint>
  <link name="L_shoulder_yaw_link">
    <inertial>
      <origin xyz="-6.043E-07 0.00099258 -0.042402" rpy="0 0 0" />
      <mass value="1.1" />
      <inertia ixx="0.00085174" ixy="-5.8193E-10" ixz="2.8655E-09" iyy="0.0009509" iyz="1.5244E-05" izz="0.00056851" />
    </inertial>
    <visual>
      <origin xyz="0 0 0" rpy="0 0 0" />
      <geometry>
        <mesh filename="meshes/L_shoulder_yaw_link.STL" />
      </geometry>
      <material name="">
        <color rgba="0.41176 0.41176 0.41176 1" />
      </material>
    </visual>
    <!-- <collision>
      <origin xyz="0 0 0" rpy="0 0 0" />
      <geometry>
        <mesh filename="meshes/L_shoulder_yaw_link.STL" />
      </geometry>
    </collision> -->
  </link>
  <joint name="L_shoulder_yaw" type="revolute">
    <origin xyz="0.00015 0 -0.136" rpy="0 0 0" />
    <parent link="L_shoulder_roll_link" />
    <child link="L_shoulder_yaw_link" />
    <axis xyz="0 0 1" />
    <limit lower="-0.5" upper="1.0" effort="14" velocity="30" />
  </joint>
  <link name="L_elbow_pitch_link">
    <inertial>
      <origin xyz="-0.0022581 0.0054089 -0.022141" rpy="0 0 0" />
      <mass value="0.56" />
      <inertia ixx="0.0006138" ixy="-2.8032E-06" ixz="-2.9913E-06" iyy="0.00040913" iyz="-1.0184E-05" izz="0.00049105" />
    </inertial>
    <visual>
      <origin xyz="0 0 0" rpy="0 0 0" />
      <geometry>
        <mesh filename="meshes/L_elbow_pitch_link.STL" />
      </geometry>
      <material name="">
        <color rgba="0.41176 0.41176 0.41176 1" />
      </material>
    </visual>
    <!-- <collision>
      <origin xyz="0 0 0" rpy="0 0 0" />
      <geometry>
        <mesh filename="meshes/L_elbow_pitch_link.STL" />
      </geometry>
    </collision> -->
  </link>
  <joint name="L_elbow_pitch" type="revolute">
    <origin xyz="0 0 -0.079866" rpy="0 -1.507 0" />
    <parent link="L_shoulder_yaw_link" />
    <child link="L_elbow_pitch_link" />
    <axis xyz="0 -1 0" />
    <limit lower="-1.4" upper="1.0" effort="6.8" velocity="30" />
  </joint>
  <link name="L_elbow_pitch_white_link">
    <inertial>
      <origin xyz="-0.0012412 0.0040006 -0.08694" rpy="0 0 0" />
      <mass value="0.05" />
      <inertia ixx="0.00034341" ixy="-7.6296E-10" ixz="1.6271E-05" iyy="0.00035224" iyz="3.5802E-10" izz="0.00047214" />
    </inertial>
    <visual>
      <origin xyz="0 0 0" rpy="0 0 0" />
      <geometry>
        <mesh filename="meshes/L_elbow_pitch_white_link.STL" />
      </geometry>
      <material name="">
        <color rgba="1 1 1 1" />
      </material>
    </visual>
    <!-- <collision>
      <origin xyz="0 0 0" rpy="0 0 0" />
      <geometry>
        <mesh filename="meshes/L_elbow_pitch_white_link.STL" />
      </geometry>
    </collision> -->
  </link>
  <joint name="L_elbow_pitch_white" type="fixed">
    <origin xyz="0 0 0" rpy="0 0 0" />
    <parent link="L_elbow_pitch_link" />
    <child link="L_elbow_pitch_white_link" />
    <axis xyz="0 0 0" />
  </joint>
  <link name="L_wirst_yaw_link">
    <inertial>
      <origin xyz="-1.1103E-05 6.7439E-07 -0.052024" rpy="0 0 0" />
      <mass value="0.6" />
      <inertia ixx="0.0011875" ixy="1.3935E-08" ixz="-4.7323E-07" iyy="0.0012876" iyz="1.5061E-08" izz="0.00068033" />
    </inertial>
    <visual>
      <origin xyz="0 0 0" rpy="0 0 0" />
      <geometry>
        <mesh filename="meshes/L_wirst_yaw_link.STL" />
      </geometry>
      <material name="">
        <color rgba="1 1 1 1" />
      </material>
    </visual>
    <!-- <collision>
      <origin xyz="0 0 0" rpy="0 0 0" />
      <geometry>
        <mesh filename="meshes/L_wirst_yaw_link.STL" />
      </geometry>
    </collision> -->
  </link>
  <joint name="L_wirst_yaw" type="revolute">
    <origin xyz="0 0.004 -0.11773" rpy="0 0 0" />
    <parent link="L_elbow_pitch_white_link" />
    <child link="L_wirst_yaw_link" />
    <axis xyz="0 0 1" />
    <limit lower="-2.4871" upper="2.4871" effort="6.8" velocity="30" />
  </joint>
  <link name="L_wrist_roll_link">
    <inertial>
      <origin xyz="8.5114E-05 1.9079E-09 -0.027615" rpy="0 0 0" />
      <mass value="0.32" />
      <inertia ixx="4.401E-05" ixy="-1.7325E-12" ixz="-2.0821E-07" iyy="4.4341E-05" iyz="-2.0652E-12" izz="3.8299E-05" />
    </inertial>
    <visual>
      <origin xyz="0 0 0" rpy="0 0 0" />
      <geometry>
        <mesh filename="meshes/L_wrist_roll_link.STL" />
      </geometry>
      <material name="">
        <color rgba="0.62745 0.62745 0.62745 1" />
      </material>
    </visual>
    <!-- <collision>
      <origin xyz="0 0 0" rpy="0 0 0" />
      <geometry>
        <mesh filename="meshes/L_wrist_roll_link.STL" />
      </geometry>
    </collision> -->
  </link>
  <joint name="L_wrist_roll" type="fixed">
    <origin xyz="0 0 -0.1159" rpy="0 0 0" />
    <parent link="L_wirst_yaw_link" />
    <child link="L_wrist_roll_link" />
    <axis xyz="1 0 0" />
    <limit lower="-0.5236" upper="0.5236" effort="6.8" velocity="30" />
  </joint>
  <link name="L_wrist_pitch_link">
    <inertial>
      <origin xyz="0.0041742 -0.0016296 -0.089473" rpy="0 0 0" />
      <mass value="0.2" />
      <inertia ixx="0.000617" ixy="4.7665E-05" ixz="1.6112E-05" iyy="0.00068349" iyz="-2.8688E-05" izz="0.00031261" />
    </inertial>
    <visual>
      <origin xyz="0 0 0" rpy="0 0 0" />
      <geometry>
        <mesh filename="meshes/L_wrist_pitch_link.STL" />
      </geometry>
      <material name="">
        <color rgba="1 1 1 1" />
      </material>
    </visual>
    <!-- <collision>
      <origin xyz="0 0 0" rpy="0 0 0" />
      <geometry>
        <mesh filename="meshes/L_wrist_pitch_link.STL" />
      </geometry>
    </collision> -->
  </link>
  <joint name="L_wrist_pitch" type="fixed">
    <origin xyz="0 0 -0.03" rpy="0 0 0" />
    <parent link="L_wrist_roll_link" />
    <child link="L_wrist_pitch_link" />
    <axis xyz="0 -1 0" />
    <limit lower="-1.309" upper="1.309" effort="1.6" velocity="30" />
  </joint>
  <link name="R_shoulder_pitch_link">
    <inertial>
      <origin xyz="-0.00083973 -0.050353 0.0019495" rpy="0 0 0" />
      <mass value="1.7" />
      <inertia ixx="0.0014141" ixy="-1.3493E-05" ixz="2.5811E-06" iyy="0.00095389" iyz="7.8123E-06" izz="0.0012992" />
    </inertial>
    <visual>
      <origin xyz="0 0 0" rpy="0 0 0" />
      <geometry>
        <mesh filename="meshes/R_shoulder_pitch_link.STL" />
      </geometry>
      <material name="">
        <color rgba="0.41961 0.41961 0.41961 1" />
      </material>
    </visual>
    <!-- <collision>
      <origin xyz="0 0 0" rpy="0 0 0" />
      <geometry>
        <mesh filename="meshes/R_shoulder_pitch_link.STL" />
      </geometry>
    </collision> -->
  </link>
  <joint name="R_shoulder_pitch" type="revolute">
    <origin xyz="-0.006 -0.1025 0.4456" rpy="0 0 0" />
    <parent link="torso_link" />
    <child link="R_shoulder_pitch_link" />
    <axis xyz="0 -1 0" />
    <limit lower="-1.5708" upper="3.1416" effort="38" velocity="30" />
  </joint>
  <link name="R_shoulder_roll_link">
    <inertial>
      <origin xyz="-0.0022681 -0.00026962 -0.050965" rpy="0 0 0" />
      <mass value="1.2" />
      <inertia ixx="0.0025124" ixy="-3.4472E-06" ixz="6.5967E-05" iyy="0.0031084" iyz="2.084E-05" izz="0.0018993" />
    </inertial>
    <visual>
      <origin xyz="0 0 0" rpy="0 0 0" />
      <geometry>
        <mesh filename="meshes/R_shoulder_roll_link.STL" />
      </geometry>
      <material name="">
        <color rgba="1 1 1 1" />
      </material>
    </visual>
    <!-- <collision>
      <origin xyz="0 0 0" rpy="0 0 0" />
      <geometry>
        <mesh filename="meshes/R_shoulder_roll_link.STL" />
      </geometry>
    </collision> -->
  </link>
  <joint name="R_shoulder_roll" type="revolute">
    <origin xyz="0 -0.0845 0" rpy="0 0 0" />
    <parent link="R_shoulder_pitch_link" />
    <child link="R_shoulder_roll_link" />
    <axis xyz="-1 0 0" />
    <limit lower="-0.1745" upper="1.5708" effort="38" velocity="30" />
  </joint>
  <link name="R_shoulder_yaw_link">
    <inertial>
      <origin xyz="-6.4993E-08 -0.00099228 -0.042402" rpy="0 0 0" />
      <mass value="1.1" />
      <inertia ixx="0.00085174" ixy="-9.7696E-09" ixz="2.5048E-09" iyy="0.00095087" iyz="-1.5247E-05" izz="0.00056849" />
    </inertial>
    <visual>
      <origin xyz="0 0 0" rpy="0 0 0" />
      <geometry>
        <mesh filename="meshes/R_shoulder_yaw_link.STL" />
      </geometry>
      <material name="">
        <color rgba="0.41176 0.41176 0.41176 1" />
      </material>
    </visual>
    <!-- <collision>
      <origin xyz="0 0 0" rpy="0 0 0" />
      <geometry>
        <mesh filename="meshes/R_shoulder_yaw_link.STL" />
      </geometry>
    </collision> -->
  </link>
  <joint name="R_shoulder_yaw" type="revolute">
    <origin xyz="0.00015 0 -0.136" rpy="0 0 0" />
    <parent link="R_shoulder_roll_link" />
    <child link="R_shoulder_yaw_link" />
    <axis xyz="0 0 -1" />
    <limit lower="-0.5" upper="1.0" effort="14" velocity="30" />
  </joint>
  <link name="R_elbow_pitch_link">
    <inertial>
      <origin xyz="-0.002259 -0.0054108 -0.022141" rpy="0 0 0" />
      <mass value="0.56" />
      <inertia ixx="0.0006138" ixy="2.8109E-06" ixz="-2.9816E-06" iyy="0.00040913" iyz="1.0184E-05" izz="0.00049105" />
    </inertial>
    <visual>
      <origin xyz="0 0 0" rpy="0 0 0" />
      <geometry>
        <mesh filename="meshes/R_elbow_pitch_link.STL" />
      </geometry>
      <material name="">
        <color rgba="0.41176 0.41176 0.41176 1" />
      </material>
    </visual>
    <!-- <collision>
      <origin xyz="0 0 0" rpy="0 0 0" />
      <geometry>
        <mesh filename="meshes/R_elbow_pitch_link.STL" />
      </geometry>
    </collision> -->
  </link>
  <joint name="R_elbow_pitch" type="revolute">
    <origin xyz="0 0 -0.079866" rpy="0 -1.507 0" />
    <parent link="R_shoulder_yaw_link" />
    <child link="R_elbow_pitch_link" />
    <axis xyz="0 -1 0" />
    <limit lower="-1.4" upper="1.0" effort="6.8" velocity="30" />
  </joint>
  <link name="R_elbow_pitch_white_link">
    <inertial>
      <origin xyz="-0.0012428 -0.0039994 -0.08694" rpy="0 0 0" />
      <mass value="0.05" />
      <inertia ixx="0.00034342" ixy="1.9111E-08" ixz="1.6262E-05" iyy="0.00035221" iyz="1.7788E-10" izz="0.00047212" />
    </inertial>
    <visual>
      <origin xyz="0 0 0" rpy="0 0 0" />
      <geometry>
        <mesh filename="meshes/R_elbow_pitch_white_link.STL" />
      </geometry>
      <material name="">
        <color rgba="1 1 1 1" />
      </material>
    </visual>
    <!-- <collision>
      <origin xyz="0 0 0" rpy="0 0 0" />
      <geometry>
        <mesh filename="meshes/R_elbow_pitch_white_link.STL" />
      </geometry>
    </collision> -->
  </link>
  <joint name="R_elbow_pitch_white" type="fixed">
    <origin xyz="0 0 0" rpy="0 0 0" />
    <parent link="R_elbow_pitch_link" />
    <child link="R_elbow_pitch_white_link" />
    <axis xyz="0 0 0" />
  </joint>
  <link name="R_wrist_yaw_link">
    <inertial>
      <origin xyz="-9.2933E-06 -8.8833E-07 -0.052023" rpy="0 0 0" />
      <mass value="0.6" />
      <inertia ixx="0.0011875" ixy="4.2412E-08" ixz="-4.8954E-07" iyy="0.0012876" iyz="-3.6551E-10" izz="0.00068036" />
    </inertial>
    <visual>
      <origin xyz="0 0 0" rpy="0 0 0" />
      <geometry>
        <mesh filename="meshes/R_wrist_yaw_link.STL" />
      </geometry>
      <material name="">
        <color rgba="1 1 1 1" />
      </material>
    </visual>
    <!-- <collision>
      <origin xyz="0 0 0" rpy="0 0 0" />
      <geometry>
        <mesh filename="meshes/R_wrist_yaw_link.STL" />
      </geometry>
    </collision> -->
  </link>
  <joint name="R_wrist_yaw" type="revolute">
    <origin xyz="0 -0.004 -0.11773" rpy="0 0 0" />
    <parent link="R_elbow_pitch_white_link" />
    <child link="R_wrist_yaw_link" />
    <axis xyz="0 0 -1" />
    <limit lower="-2.4871" upper="2.4871" effort="6.8" velocity="30" />
  </joint>
  <link name="R_wrist_roll_link">
    <inertial>
      <origin xyz="8.5115E-05 -1.9245E-09 -0.027615" rpy="0 0 0" />
      <mass value="0.32" />
      <inertia ixx="4.401E-05" ixy="-5.391E-13" ixz="-2.0821E-07" iyy="4.4341E-05" iyz="1.9185E-12" izz="3.8299E-05" />
    </inertial>
    <visual>
      <origin xyz="0 0 0" rpy="0 0 0" />
      <geometry>
        <mesh filename="meshes/R_wrist_roll_link.STL" />
      </geometry>
      <material name="">
        <color rgba="0.41961 0.41961 0.41961 1" />
      </material>
    </visual>
    <!-- <collision>
      <origin xyz="0 0 0" rpy="0 0 0" />
      <geometry>
        <mesh filename="meshes/R_wrist_roll_link.STL" />
      </geometry>
    </collision> -->
  </link>
  <joint name="R_wrist_roll" type="fixed">
    <origin xyz="0 0 -0.1159" rpy="0 0 0" />
    <parent link="R_wrist_yaw_link" />
    <child link="R_wrist_roll_link" />
    <axis xyz="-1 0 0" />
    <limit lower="-0.5236" upper="0.5236" effort="6.8" velocity="30" />
  </joint>
  <link name="R_wrist_pitch_link">
    <inertial>
      <origin xyz="0.0041724 0.001631 -0.08947" rpy="0 0 0" />
      <mass value="0.2" />
      <inertia ixx="0.000617" ixy="-4.7673E-05" ixz="1.6111E-05" iyy="0.0006835" iyz="2.8687E-05" izz="0.00031263" />
    </inertial>
    <visual>
      <origin xyz="0 0 0" rpy="0 0 0" />
      <geometry>
        <mesh filename="meshes/R_wrist_pitch_link.STL" />
      </geometry>
      <material name="">
        <color rgba="1 1 1 1" />
      </material>
    </visual>
    <!-- <collision>
      <origin xyz="0 0 0" rpy="0 0 0" />
      <geometry>
        <mesh filename="meshes/R_wrist_pitch_link.STL" />
      </geometry>
    </collision> -->
  </link>
  <joint name="R_wrist_pitch" type="fixed">
    <origin xyz="0 0 -0.03" rpy="0 0 0" />
    <parent link="R_wrist_roll_link" />
    <child link="R_wrist_pitch_link" />
    <axis xyz="0 -1 0" />
    <limit lower="-1.309" upper="1.309" effort="1.6" velocity="30" />
  </joint>
  <link name="logo_link">
    <inertial>
      <origin xyz="0.10072 -0.0012647 0.42985" rpy="0 0 0" />
      <mass value="0.05" />
      <inertia ixx="5.4947E-08" ixy="2.1102E-09" ixz="1.3394E-08" iyy="2.8719E-08" iyz="-3.0137E-09" izz="4.5197E-08" />
    </inertial>
    <visual>
      <origin xyz="0 0 0" rpy="0 0 0" />
      <geometry>
        <mesh filename="meshes/logo_link.STL" />
      </geometry>
      <material name="">
        <color rgba="0.2 0.2 0.2 1" />
      </material>
    </visual>
    <!-- <collision>
      <origin xyz="0 0 0" rpy="0 0 0" />
      <geometry>
        <mesh filename="meshes/logo_link.STL" />
      </geometry>
    </collision> -->
  </link>
  <joint name="logo" type="fixed">
    <origin xyz="0 0 0" rpy="0 0 0" />
    <parent link="torso_link" />
    <child link="logo_link" />
    <axis xyz="0 0 0" />
  </joint>
  <link name="torso_black_link">
    <inertial>
      <origin xyz="-0.002039 4.4099E-06 0.40376" rpy="0 0 0" />
      <mass value="0.05" />
      <inertia ixx="0.0082211" ixy="3.7272E-07" ixz="1.4386E-06" iyy="0.0034327" iyz="-2.5582E-07" izz="0.010489" />
    </inertial>
    <visual>
      <origin xyz="0 0 0" rpy="0 0 0" />
      <geometry>
        <mesh filename="meshes/torso_black_link.STL" />
      </geometry>
      <material name="">
        <color rgba="0.41961 0.41961 0.41961 1" />
      </material>
    </visual>
    <!-- <collision>
      <origin xyz="0 0 0" rpy="0 0 0" />
      <geometry>
        <mesh filename="meshes/torso_black_link.STL" />
      </geometry>
    </collision> -->
  </link>
  <joint name="torso_black" type="fixed">
    <origin xyz="0 0 -0.1716" rpy="0 0 0" />
    <parent link="waist_roll_link" />
    <child link="torso_black_link" />
    <axis xyz="0 0 0" />
  </joint>
</robot>
